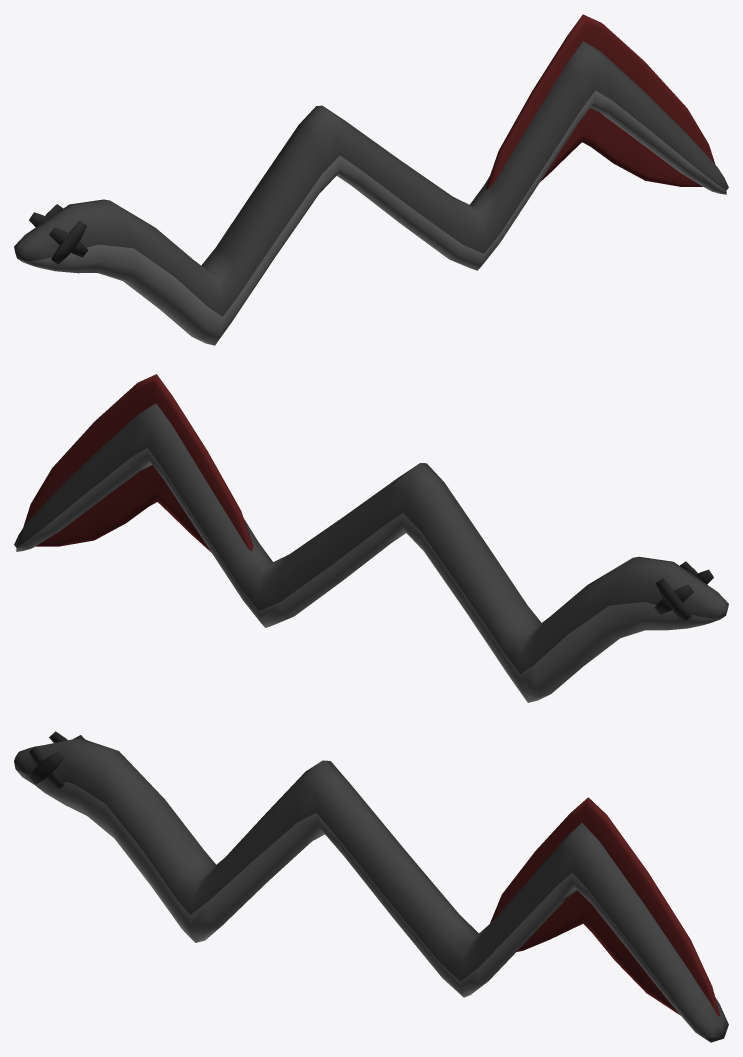
The model's file is quaternius-sushi-restaurant-foodingredient-eel.glb.
The picture shows the model from 3 angles, top to bottom: view 1: azimuth 30°, elevation 25°; view 2: azimuth 150°, elevation 25°; view 3: azimuth 330°, elevation 25°; orthographic projection.
Parts seen in each view (by area): view 1: FoodIngredient_Eel; view 2: FoodIngredient_Eel; view 3: FoodIngredient_Eel.
Boxes of the visible parts, left/top/right/bottom form: FoodIngredient_Eel: left=14, top=14, right=728, bottom=345; FoodIngredient_Eel: left=14, top=374, right=728, bottom=702; FoodIngredient_Eel: left=14, top=731, right=728, bottom=1042.
Size of the model in its own units: 2.41 by 0.7614 by 0.1905.
Materials: 1 (1 with a texture image).
